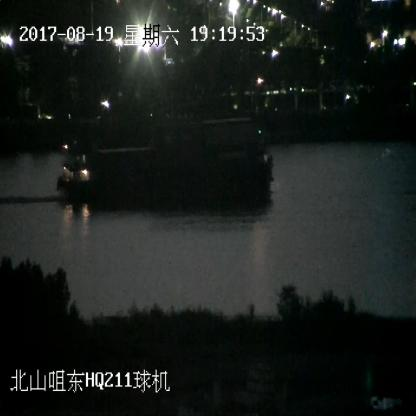Container Ship: (64, 120, 274, 207)
